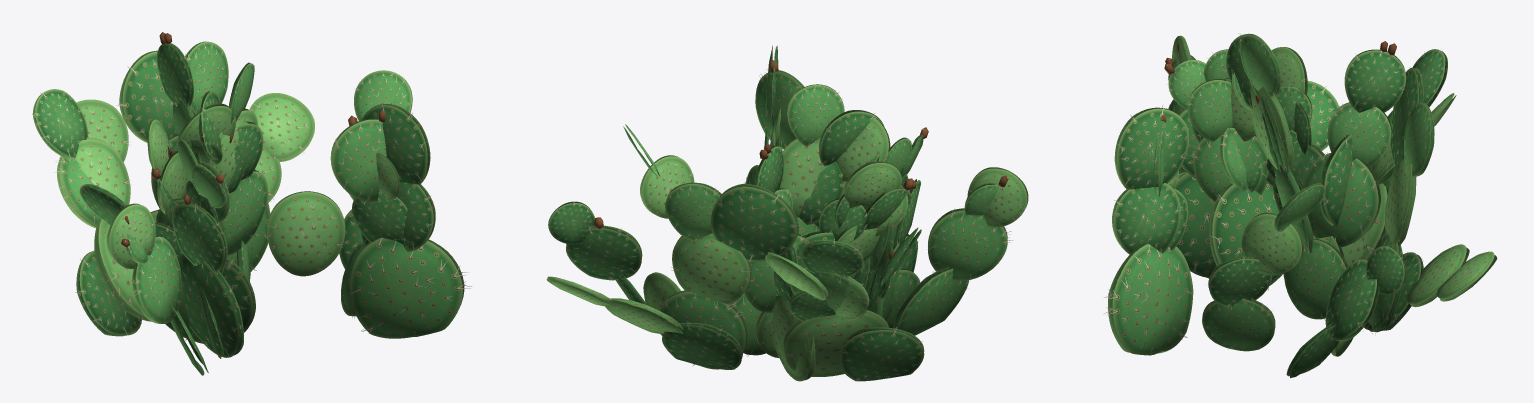
Rendered from mm6_deco_cac10.glb.
The picture shows the model from 3 angles, left to right: view 1: azimuth 30°, elevation 25°; view 2: azimuth 150°, elevation 25°; view 3: azimuth 270°, elevation 25°; orthographic projection. The views are drawn at different scales.
Parts seen in each view (by area): view 1: Cactus; view 2: Cactus; view 3: Cactus.
Boxes of the visible parts, <box> form: Cactus: <box>32,32,471,375</box>; Cactus: <box>546,45,1028,381</box>; Cactus: <box>1103,33,1497,378</box>.
Bounding box in the file's own units: 3.32 × 2.09 × 3.
1 material, 1 textured.
